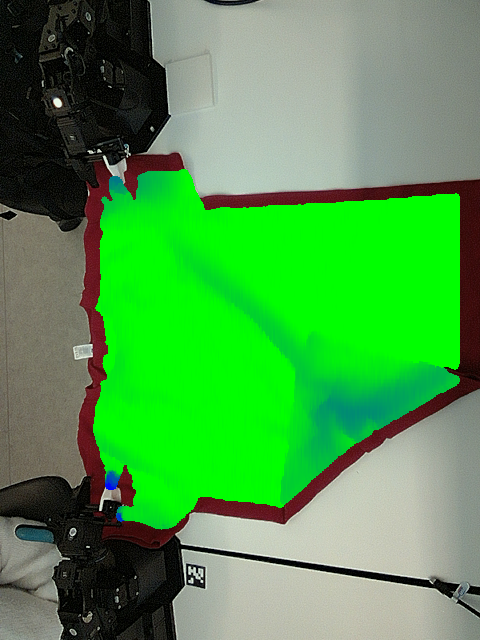V: (298, 313, 353, 367)
